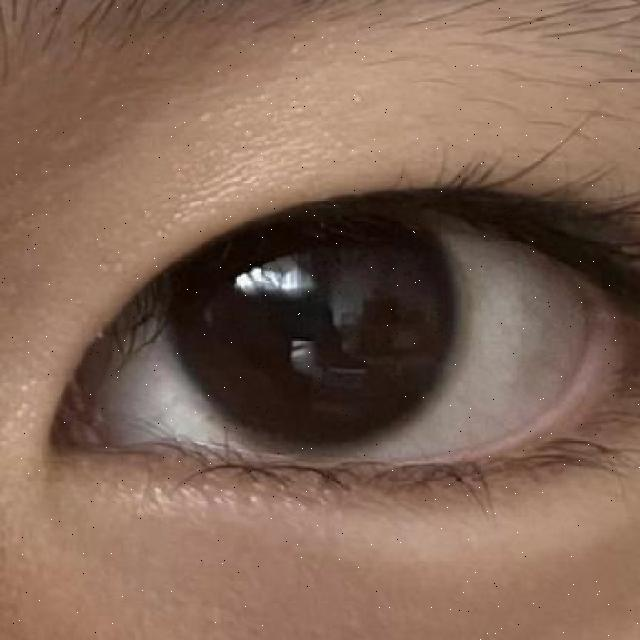Normal: (164, 179, 458, 454)
